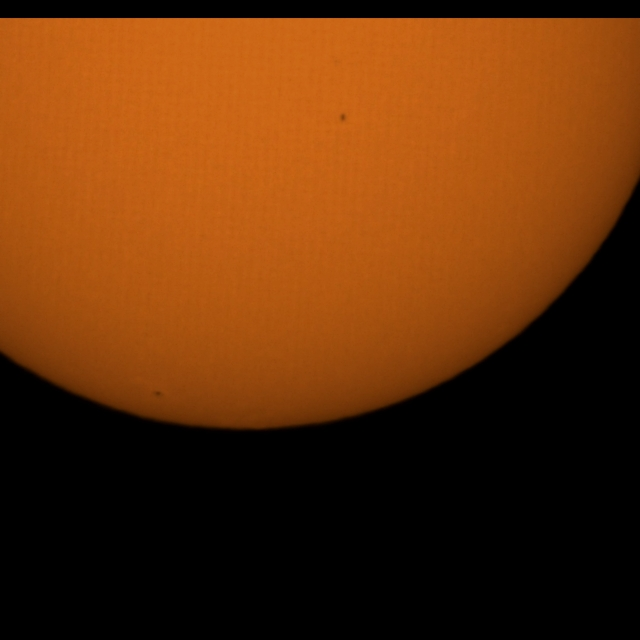sunspot: (338, 112, 348, 124), (152, 390, 164, 398)
